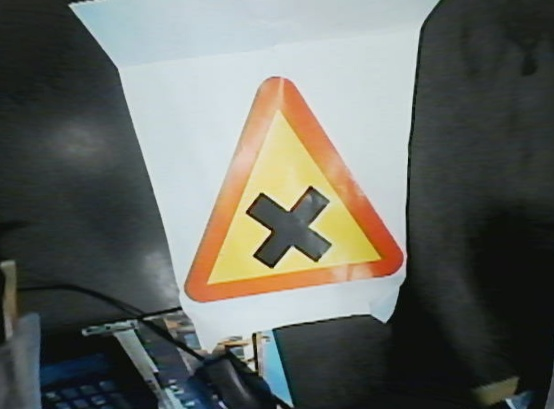junction: (177, 78, 415, 296)
